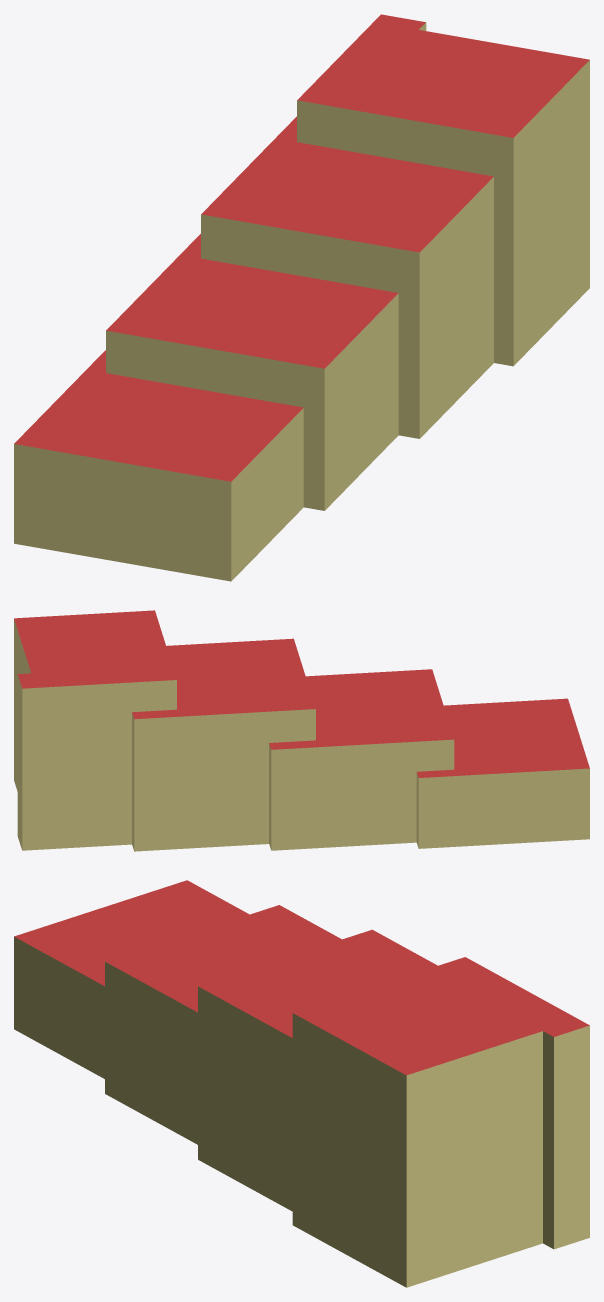
The picture shows the model from 3 angles, top to bottom: view 1: azimuth 30°, elevation 25°; view 2: azimuth 150°, elevation 25°; view 3: azimuth 270°, elevation 25°; orthographic projection. The views are drawn at different scales.
Bounding box in the file's own units: 45.4 × 35.1 × 14.28.
